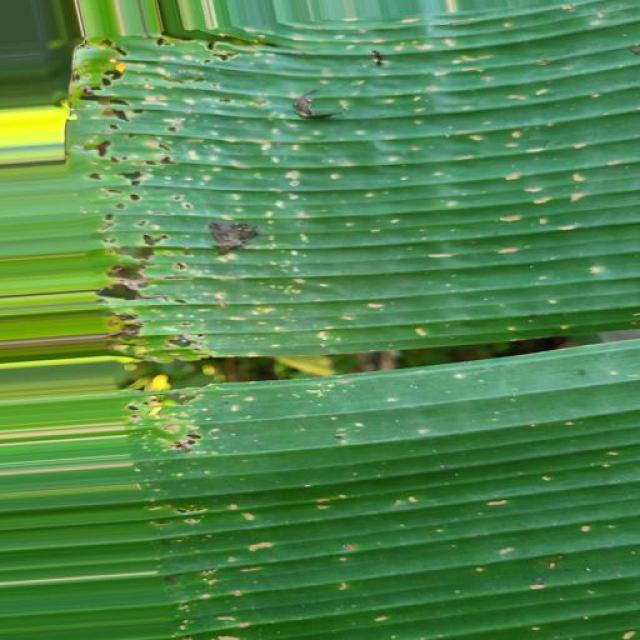Black_rot: (78, 37, 617, 597)
